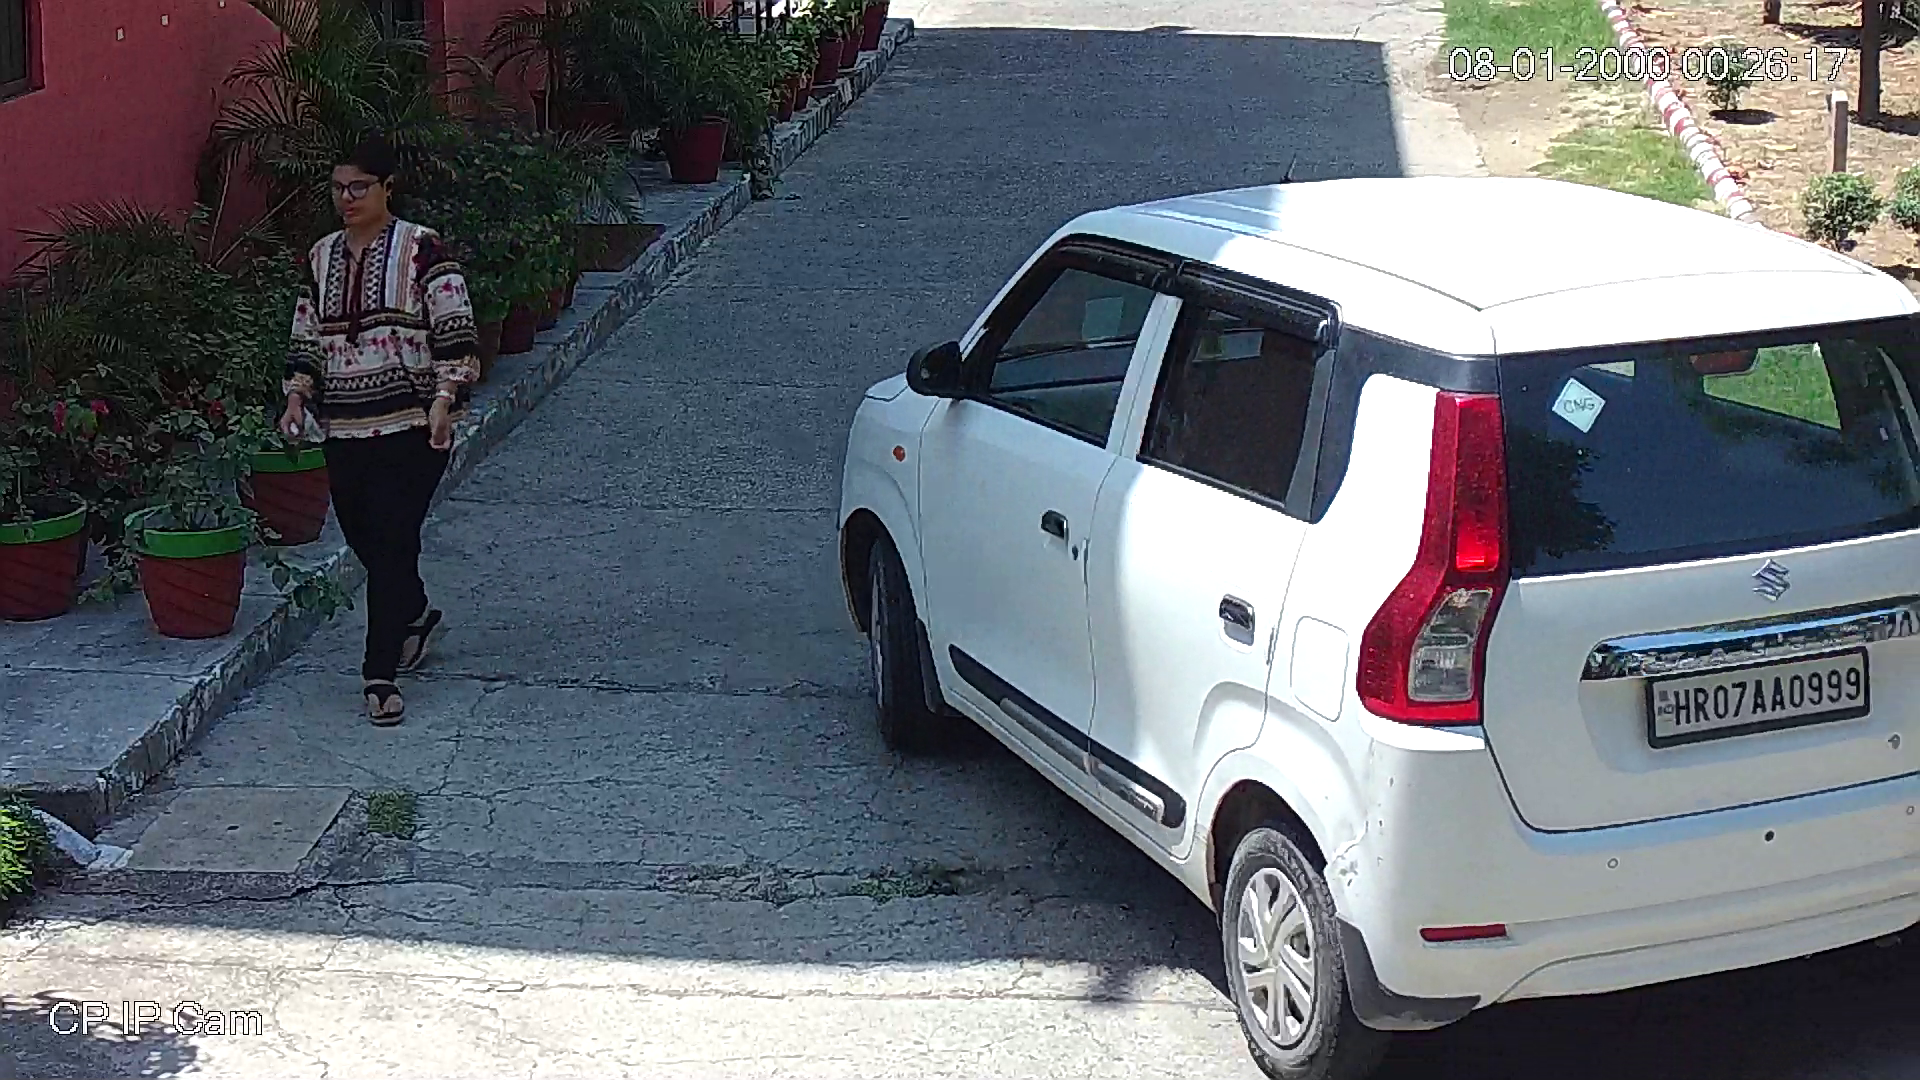plate: (1657, 660, 1867, 736)
